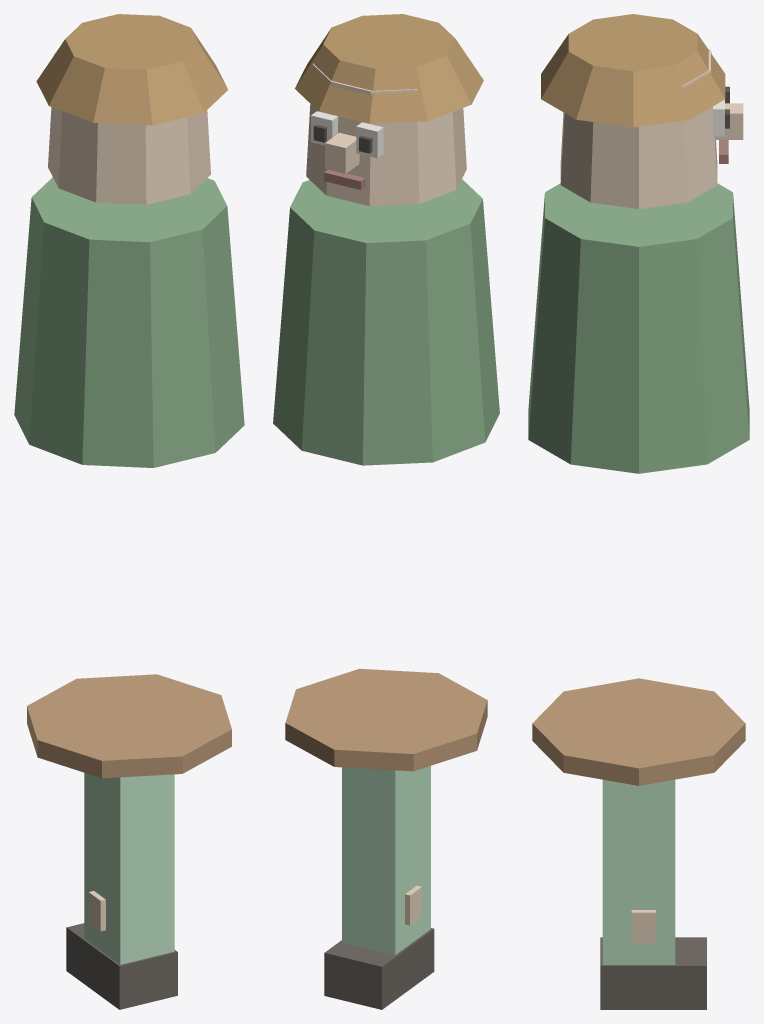
The model's file is npc_pip.glb.
The picture shows the model from 3 angles, left to right: view 1: azimuth 30°, elevation 25°; view 2: azimuth 150°, elevation 25°; view 3: azimuth 270°, elevation 25°; orthographic projection.
Visible parts, largest first — view 1: Torso, PropHoop, Hair, LimbLegL, Head, BootL, ThumbR; view 2: Torso, PropHoop, Hair, LimbLegL, Head, BootL, Nose, EyeWhiteL, ThumbR, EyeWhiteR, Mouth; view 3: Torso, PropHoop, Hair, Head, LimbLegL, BootL, ThumbL, Nose.
Part boxes in pixels (box(x1,y1,x2,y2)): Torso: box(14, 177, 244, 467); PropHoop: box(27, 674, 231, 778); Hair: box(36, 14, 227, 125); LimbLegL: box(84, 773, 174, 964); Head: box(48, 53, 210, 204); BootL: box(66, 923, 177, 1009); ThumbR: box(88, 891, 105, 931); Torso: box(273, 179, 499, 465); PropHoop: box(285, 668, 487, 771); Hair: box(295, 14, 483, 123); LimbLegL: box(342, 766, 430, 954); Head: box(306, 63, 466, 206); BootL: box(324, 928, 434, 1009); Nose: box(325, 132, 359, 173); EyeWhiteL: box(356, 122, 383, 158); ThumbR: box(405, 885, 421, 925); EyeWhiteR: box(311, 111, 338, 145); Mouth: box(324, 169, 365, 189); Torso: box(528, 183, 749, 473); PropHoop: box(532, 678, 745, 785); Hair: box(541, 14, 725, 127); Head: box(560, 49, 717, 208); LimbLegL: box(602, 779, 675, 964); BootL: box(600, 937, 706, 1009); ThumbL: box(631, 910, 655, 943); Nose: box(715, 103, 743, 139).
Size of the model in its own units: 0.3456 by 1.56 by 0.3287.
